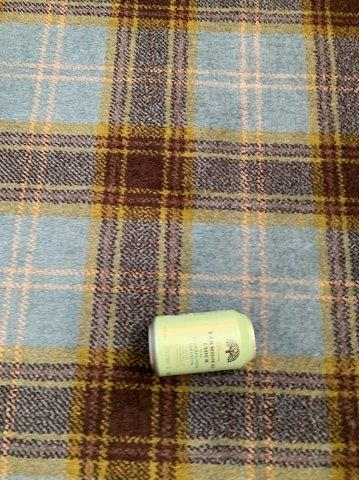kaleng: (150, 311, 254, 374)
